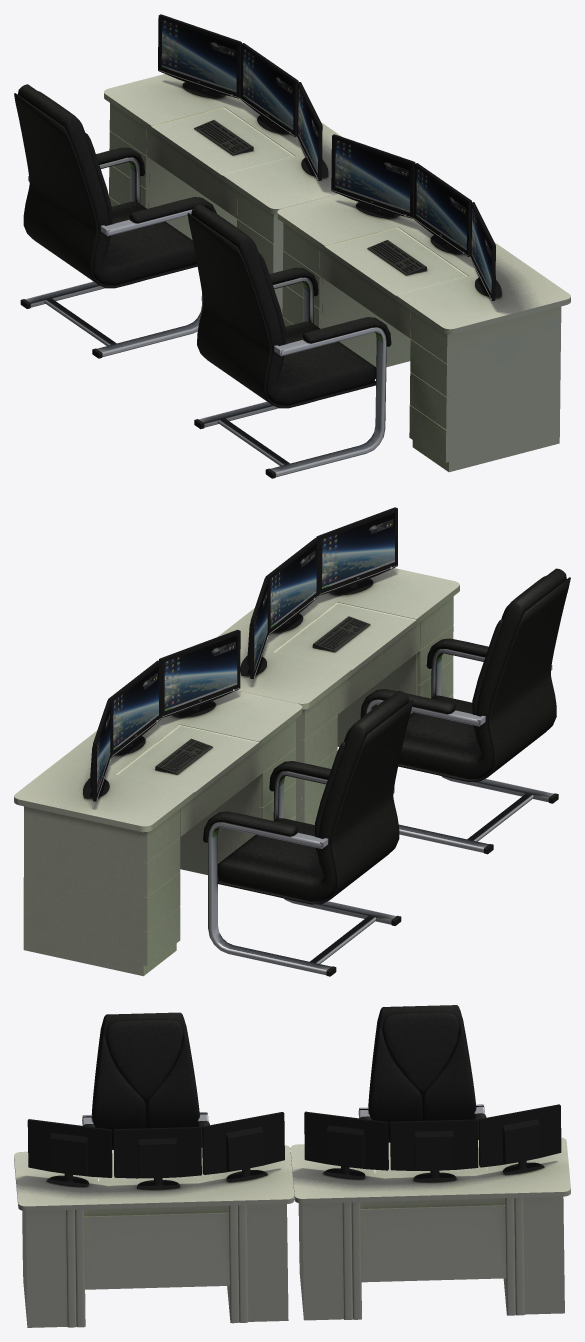
The model's file is workcenter.obj.
The picture shows the model from 3 angles, top to bottom: view 1: azimuth 30°, elevation 25°; view 2: azimuth 150°, elevation 25°; view 3: azimuth 270°, elevation 25°; orthographic projection. The views are drawn at different scales.
Parts seen in each view (by area): view 1: workcenter; view 2: workcenter; view 3: workcenter.
Boxes of the visible parts, x1,y1,x2,y2 form: workcenter: (14,14,570,478); workcenter: (14,507,570,976); workcenter: (14,1005,570,1327).
Size of the model in its own units: 192 by 148 by 362.
Materials: 4 (4 with a texture image).
